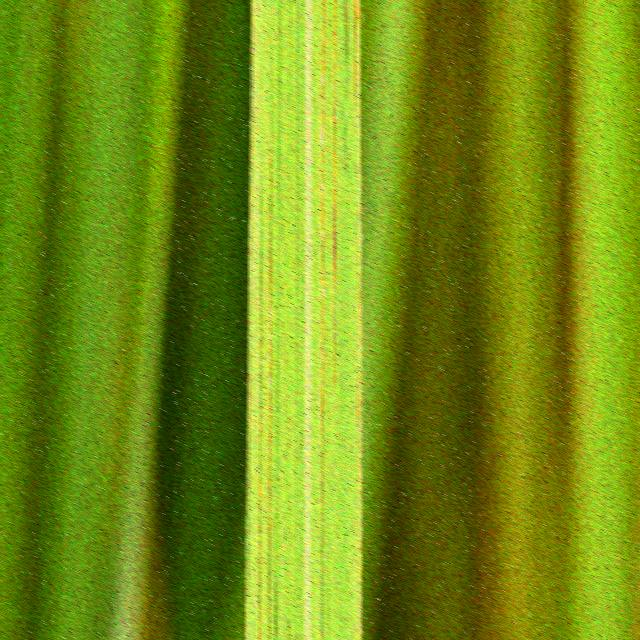BLS: (245, 0, 254, 637), (320, 0, 327, 638), (257, 150, 262, 638), (267, 154, 272, 633), (332, 0, 338, 386), (358, 263, 361, 638), (354, 0, 361, 108), (343, 0, 348, 73)
